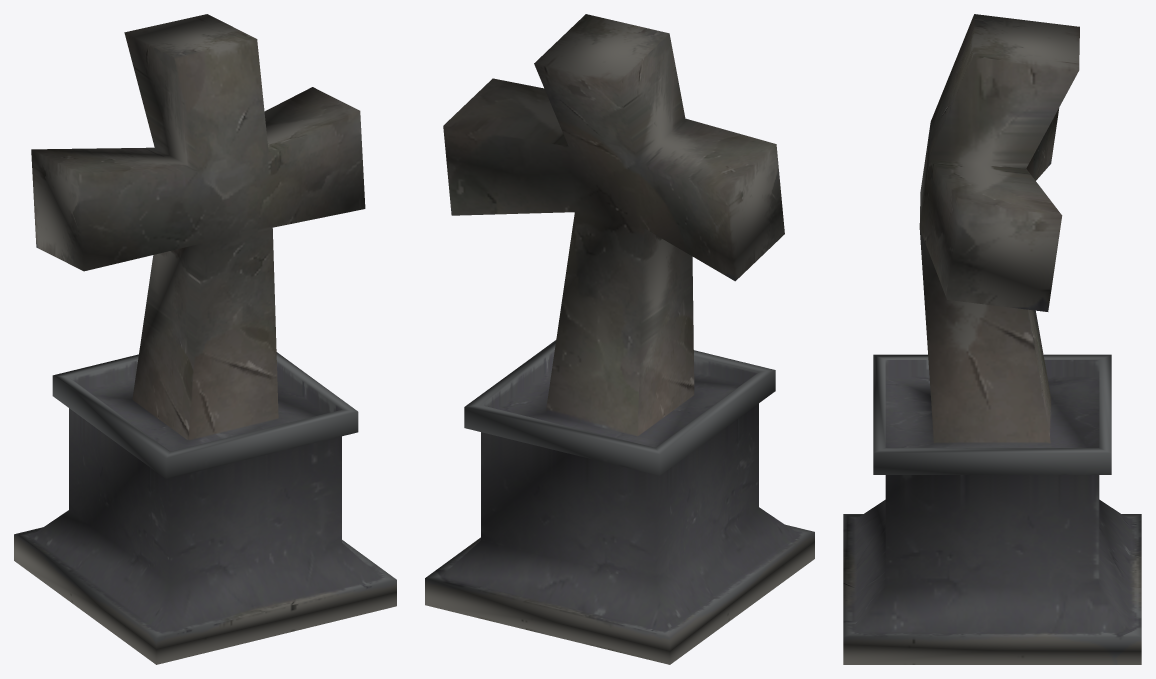
File: Grave.fbx
3 renders of one model, left to right at view 1: azimuth 30°, elevation 25°; view 2: azimuth 150°, elevation 25°; view 3: azimuth 270°, elevation 25°, orthographic. The views are drawn at different scales.
Parts seen in each view (by area): view 1: Grave1; view 2: Grave1; view 3: Grave1.
Boxes of the visible parts, x1,y1,x2,y2 form: Grave1: (14,14,396,664); Grave1: (425,14,814,664); Grave1: (843,14,1141,664).
Bounding box in the file's own units: 0.06 × 0.1103 × 0.0524.
